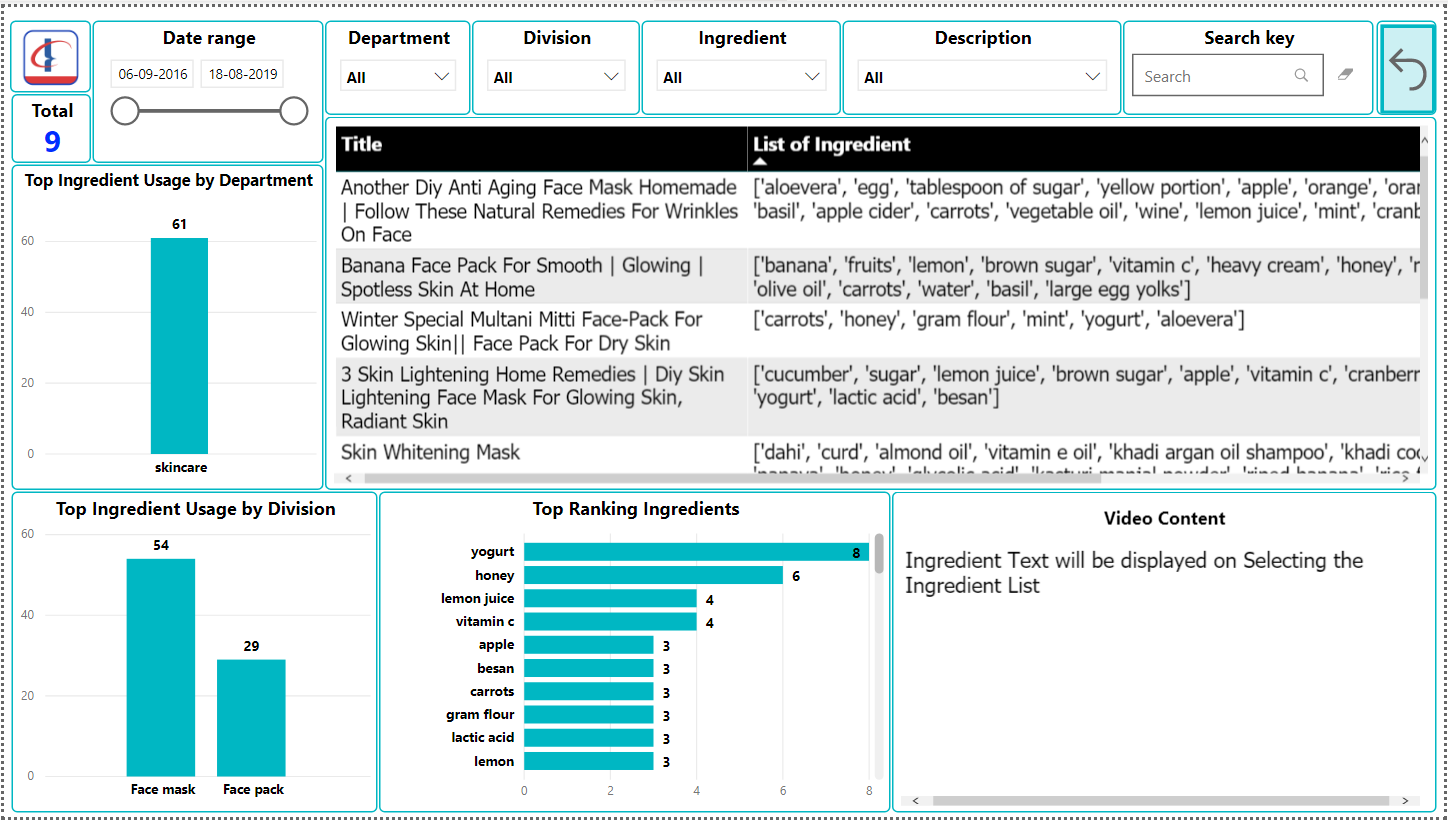

The page's visual inventory and layout, read from the dashboard file:
{"tool":"powerbi","page":{"name":"Product Making Videos","canvas":[1280,720],"ordinal":0},"visuals":[{"type":"image","box":[5.3,12,72,64],"z":0},{"type":"clusteredBarChart","title":"Top Ranking Ingredients","fields":{"Category":["ING.ingredient"],"Y":["CountNonNull(ING.ingredient)"]},"box":[333.3,430.7,454.7,285.3],"z":1000},{"type":"card","title":"Total","fields":{"Values":["Count(ING.Index)"]},"box":[6.7,77.3,70.7,61.3],"z":2000},{"type":"columnChart","title":"Top Ingredient Usage by Division","fields":{"Category":["LOI.Division"],"Y":["Count(ING.ingredient)"]},"box":[6.7,430.7,325.3,285.3],"z":3000},{"type":"tableEx","fields":{"Values":["LOI.On click"]},"box":[789.3,430.7,484,285.3],"z":4000},{"type":"tableEx","title":"Aspect","fields":{"Values":["LOI.Title","LOI.ing"]},"box":[285.3,97.3,988,332],"z":5000},{"type":"slicer","title":"Department","fields":{"Values":["LOI.Dept"]},"box":[285.3,12,129.3,84],"z":6000},{"type":"columnChart","title":"Top Ingredient Usage by Department","fields":{"Category":["LOI.Dept"],"Y":["Count(ING.ingredient)"]},"box":[6.7,140,277.3,289.3],"z":7000},{"type":"slicer","title":"Division","fields":{"Values":["LOI.Division"]},"box":[416,12,149.3,84],"z":8000},{"type":"slicer","title":"Ingredient","fields":{"Values":["ING.ingredient"]},"box":[566.7,12,177.3,84],"z":9000},{"type":"slicer","title":"Date range","fields":{"Values":["LOI.Date"]},"box":[78.7,12,205.3,126.7],"z":10000},{"type":"slicer","title":"Description","fields":{"Values":["LOI.Title"]},"box":[745.3,12,248,84],"z":11000},{"type":"textFilter25A4896A83E0487089E2B90C9AE57C8A","title":"Search key","fields":{"field":["LOI.Youtube key"]},"box":[994.7,12,222.7,84],"z":12000},{"type":"actionButton","box":[1220,12,53.3,84],"z":13000}]}

Visuals, with their boxes in screenshot pixels (x1, y1, x2, y2), scaled from the page's 1280x720 canvas onto the 1448x823 screenshot:
image: region(6, 14, 87, 87)
"Top Ranking Ingredients" clusteredBarChart: region(377, 492, 891, 818)
"Total" card: region(8, 88, 88, 158)
"Top Ingredient Usage by Division" columnChart: region(8, 492, 376, 818)
tableEx - LOI.On click: region(893, 492, 1440, 818)
"Aspect" tableEx: region(323, 111, 1440, 491)
"Department" slicer: region(323, 14, 469, 110)
"Top Ingredient Usage by Department" columnChart: region(8, 160, 321, 491)
"Division" slicer: region(471, 14, 639, 110)
"Ingredient" slicer: region(641, 14, 842, 110)
"Date range" slicer: region(89, 14, 321, 159)
"Description" slicer: region(843, 14, 1124, 110)
"Search key" textFilter25A4896A83E0487089E2B90C9AE57C8A: region(1125, 14, 1377, 110)
actionButton: region(1380, 14, 1440, 110)
